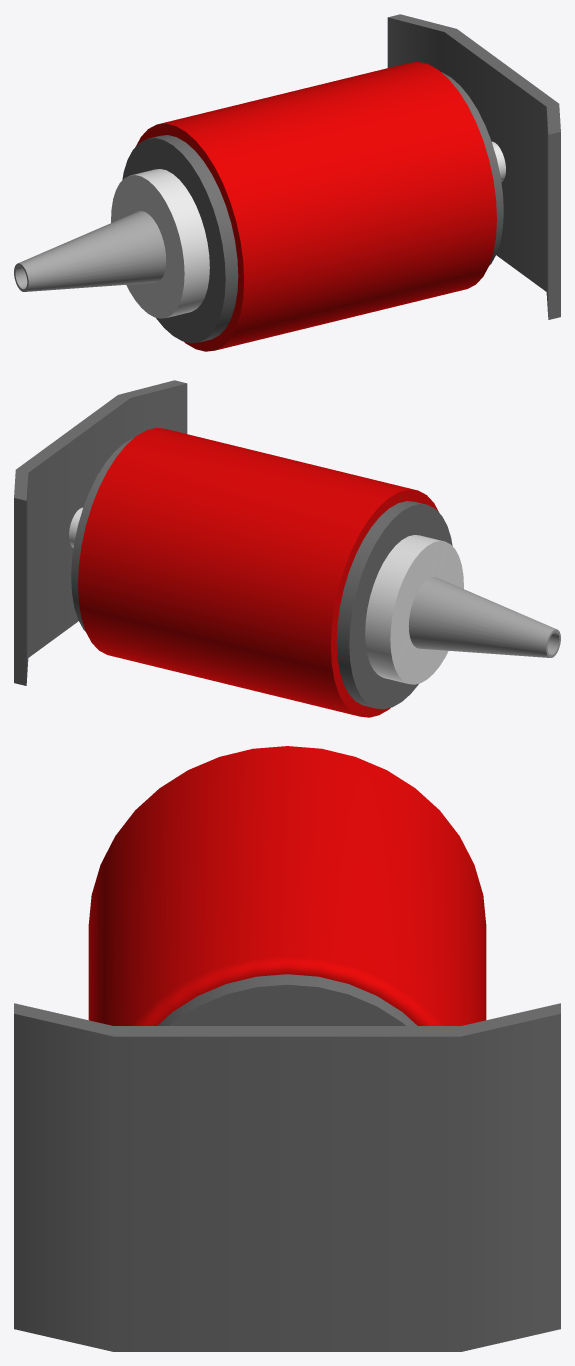
File: turret_laser.fbx
3 views of the same model, one above another, from view 1: azimuth 30°, elevation 25°; view 2: azimuth 150°, elevation 25°; view 3: azimuth 270°, elevation 25° (orthographic). The views are drawn at different scales.
Visible parts, largest first — view 1: turret_laser; view 2: turret_laser; view 3: turret_laser.
Boxes of the visible parts, x1,y1,x2,y2 form: turret_laser: (14,14,560,351); turret_laser: (14,380,560,717); turret_laser: (14,746,560,1351).
Size of the model in its own units: 1.93 by 0.8 by 1.1.
